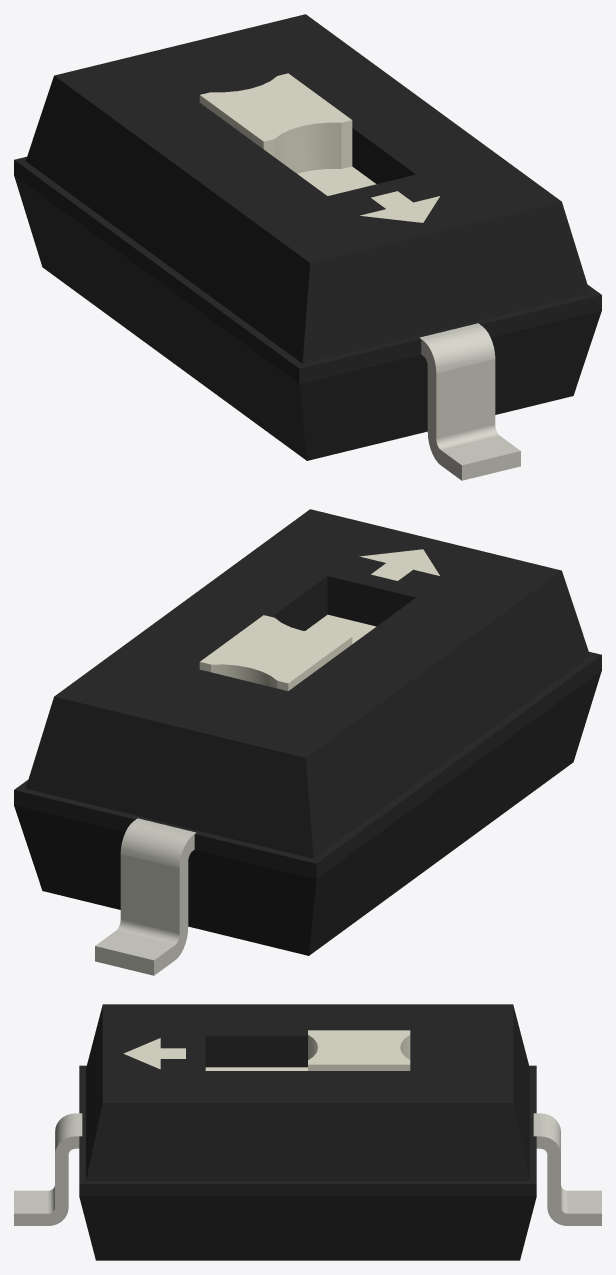
File: kc-sw_dip_spstx01_slide_6.7x4.1mm_w8.61mm_p2.54mm_lowprofile.glb
The picture shows the model from 3 angles, top to bottom: view 1: azimuth 30°, elevation 25°; view 2: azimuth 150°, elevation 25°; view 3: azimuth 270°, elevation 25°; orthographic projection. The views are drawn at different scales.
Visible parts, largest first — view 1: 0_0_0_0, 0.75_0.75_0.6666666666666666_0, 0.6666666666666666_0.6666666666666666_0.5833333333333334_0.8; view 2: 0_0_0_0, 0.6666666666666666_0.6666666666666666_0.5833333333333334_0.8, 0.75_0.75_0.6666666666666666_0; view 3: 0_0_0_0, 0.6666666666666666_0.6666666666666666_0.5833333333333334_0.8, 0.75_0.75_0.6666666666666666_0.
Boxes of the visible parts, x1,y1,x2,y2 form: 0_0_0_0: (14,14,601,460); 0.75_0.75_0.6666666666666666_0: (199,73,439,222); 0.6666666666666666_0.6666666666666666_0.5833333333333334_0.8: (420,323,520,480); 0_0_0_0: (14,509,601,955); 0.6666666666666666_0.6666666666666666_0.5833333333333334_0.8: (95,818,195,975); 0.75_0.75_0.6666666666666666_0: (199,549,439,690); 0_0_0_0: (79,1004,536,1260); 0.6666666666666666_0.6666666666666666_0.5833333333333334_0.8: (14,1113,601,1225); 0.75_0.75_0.6666666666666666_0: (123,1030,410,1070).
Bounding box in the file's own units: 0.41 × 0.27 × 0.861.
